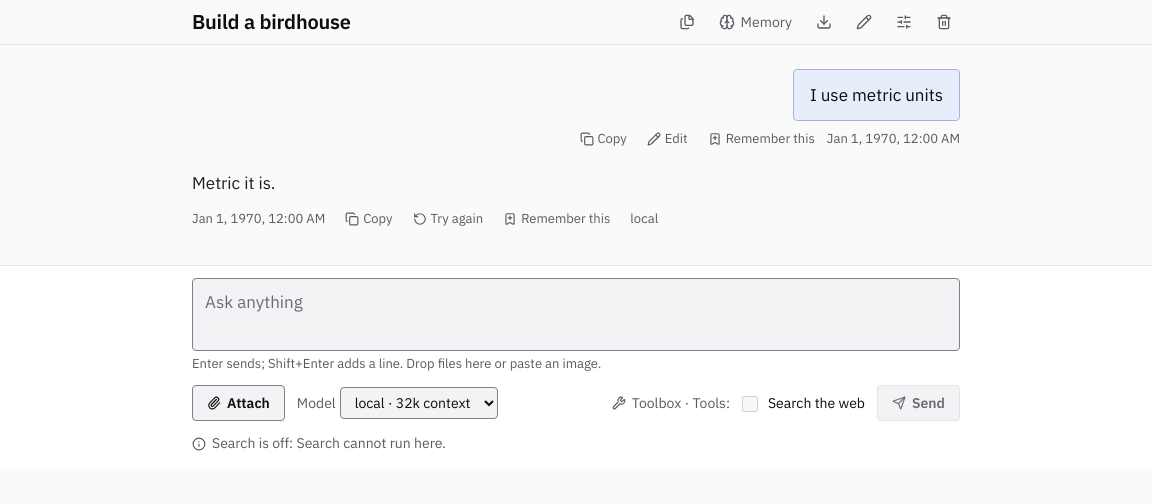
Test: Memory in a chat › Remember this on a message › keeps the message's words as a note from a button, and says so in the toast
Click the button with aria-label "Remember this message": {"x": 761, "y": 139} [700, 125, 823, 153]
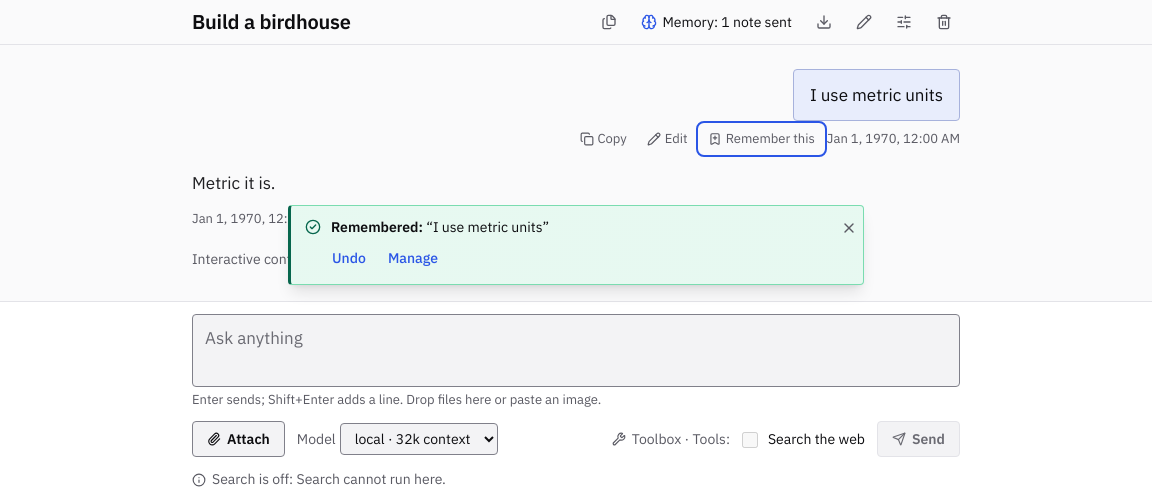
Expected: the button with aria-label "Remember this answer" is shown, [495, 205, 618, 233]
Now the message with test id "memory-toast" shows "Remembered: “I use metric units”", box [288, 205, 864, 285]
